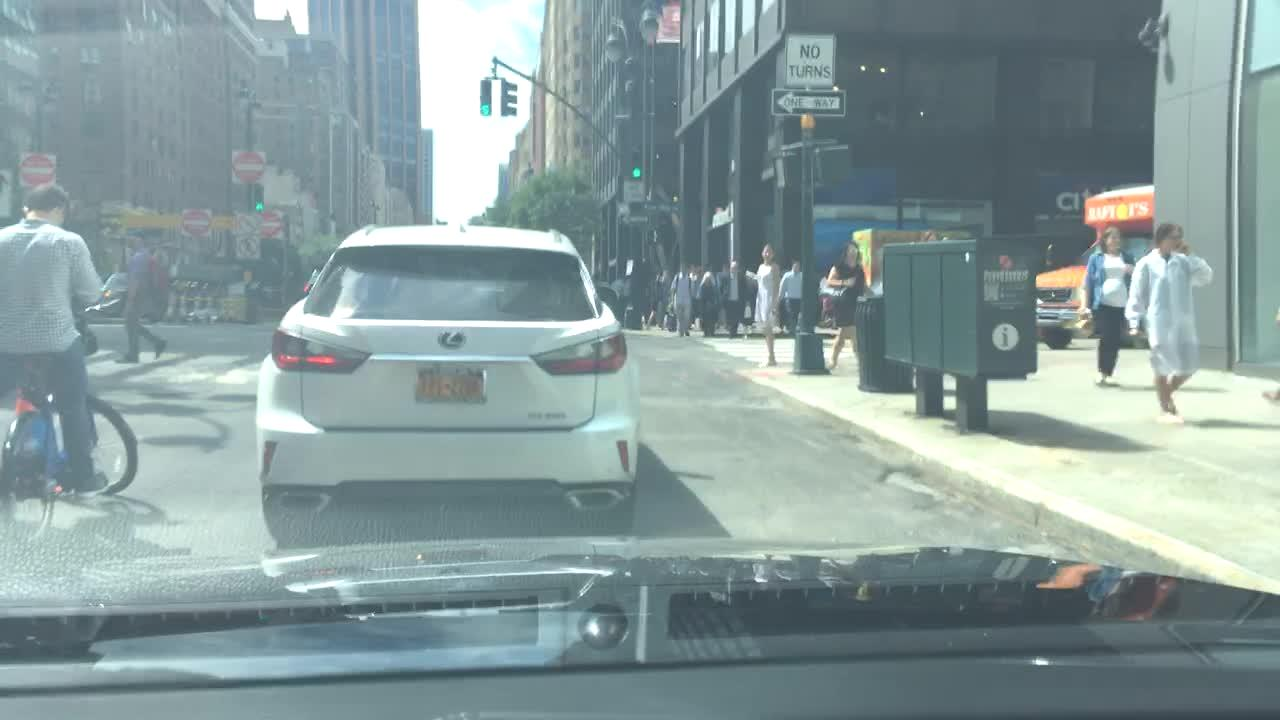lexus: (429, 324, 480, 351)
